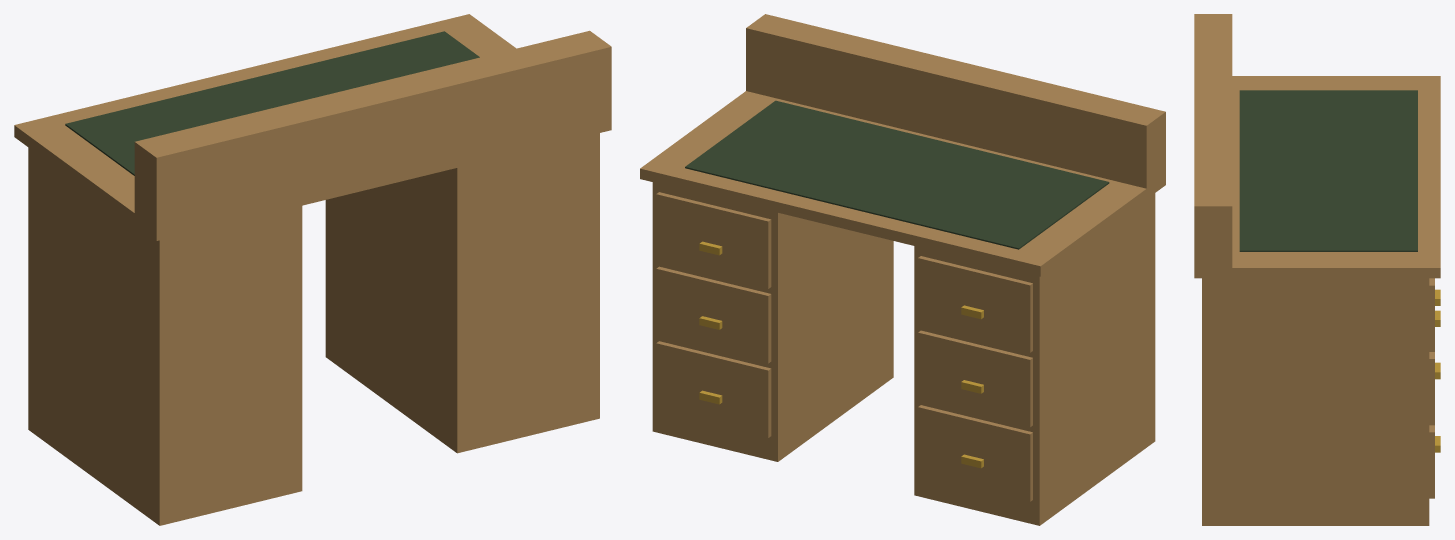
File: parametric-desk-2nd-pub.glb
The picture shows the model from 3 angles, left to right: view 1: azimuth 30°, elevation 25°; view 2: azimuth 150°, elevation 25°; view 3: azimuth 270°, elevation 25°; orthographic projection. The views are drawn at different scales.
Parts seen in each view (by area): view 1: parametric-desk-2nd-pub; view 2: parametric-desk-2nd-pub; view 3: parametric-desk-2nd-pub.
Part boxes in pixels (box(x1,y1,x2,y2)): parametric-desk-2nd-pub: box(14, 14, 611, 525); parametric-desk-2nd-pub: box(640, 14, 1165, 525); parametric-desk-2nd-pub: box(1194, 14, 1440, 525).
Bounding box in the file's own units: 1.2 × 0.94 × 0.65.
